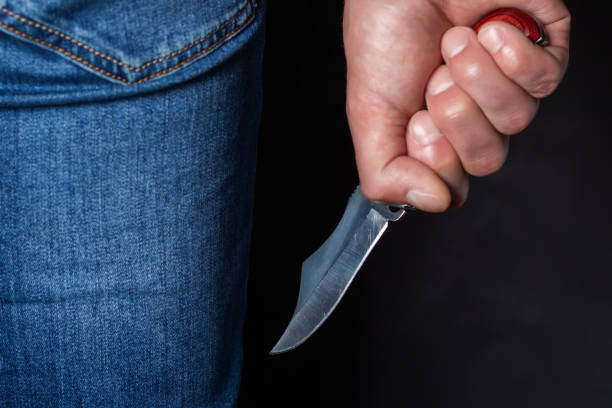knife: (269, 186, 405, 355)
